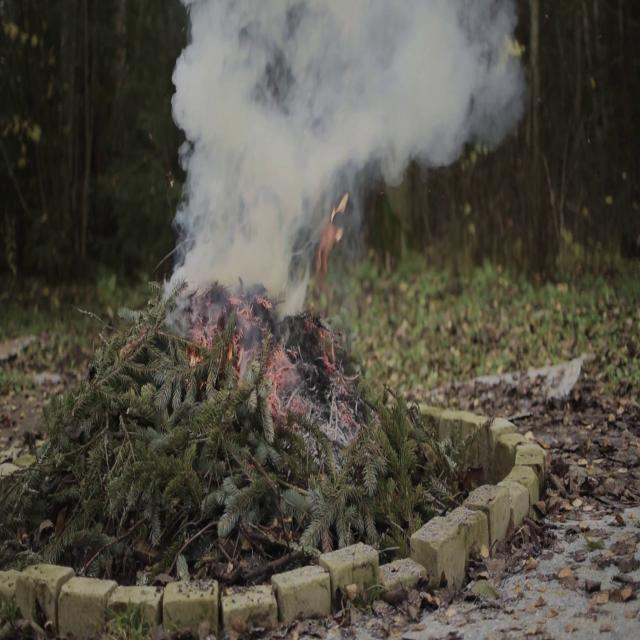Smoke: (165, 0, 515, 295)
